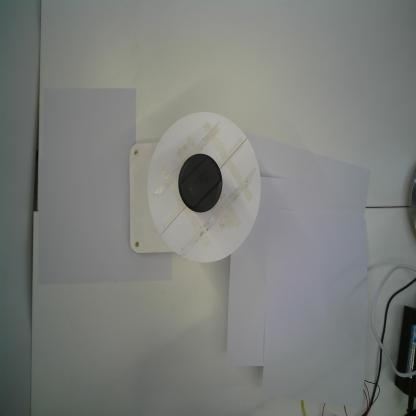Canned Food: (178, 152, 223, 215)
